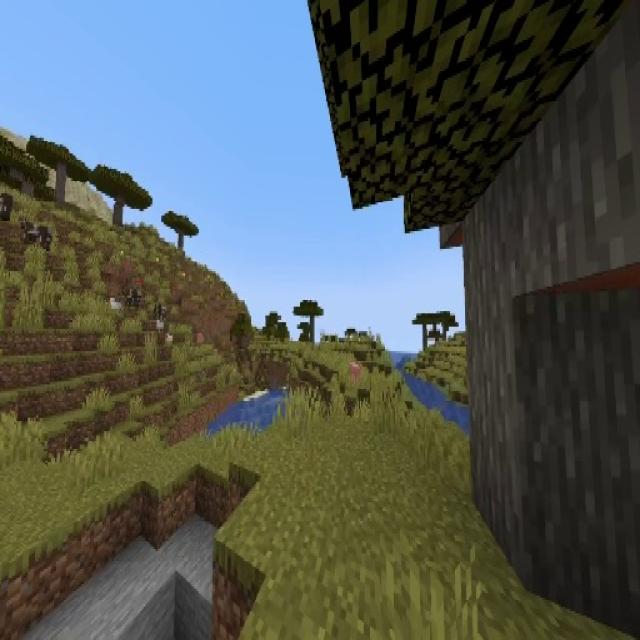acacia: (28, 135, 90, 207), (92, 164, 152, 231)
acacia_log: (462, 0, 638, 630)
